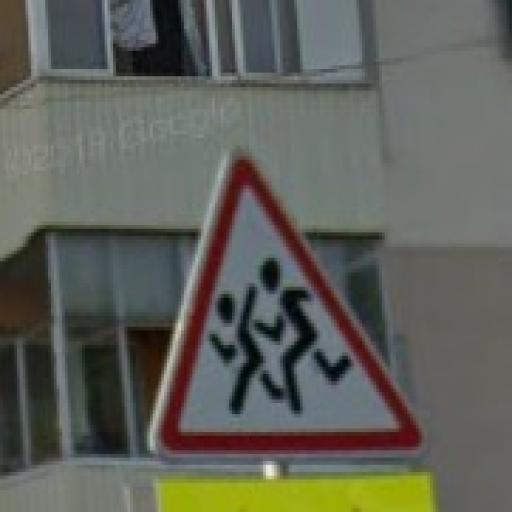traffic_sign: (148, 146, 431, 462)
